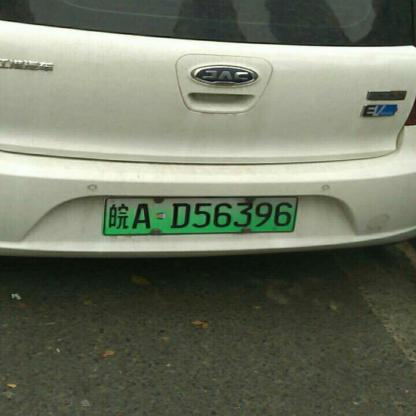lp: (105, 196, 296, 234)
